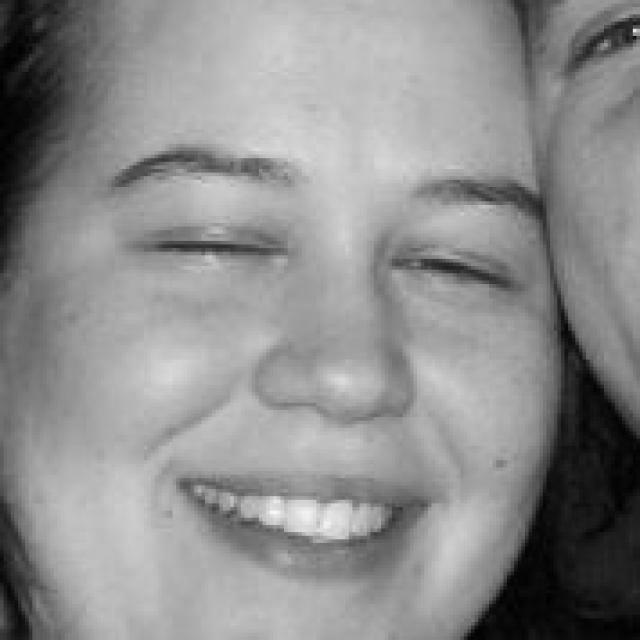real: (0, 0, 556, 640), (111, 205, 540, 320)
